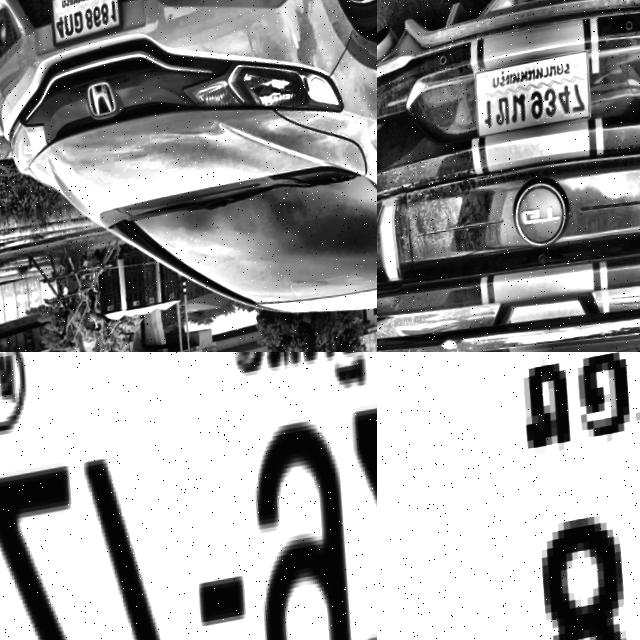license-plate: (0, 352, 377, 640), (377, 352, 640, 640), (472, 54, 599, 146), (47, 0, 130, 53)
